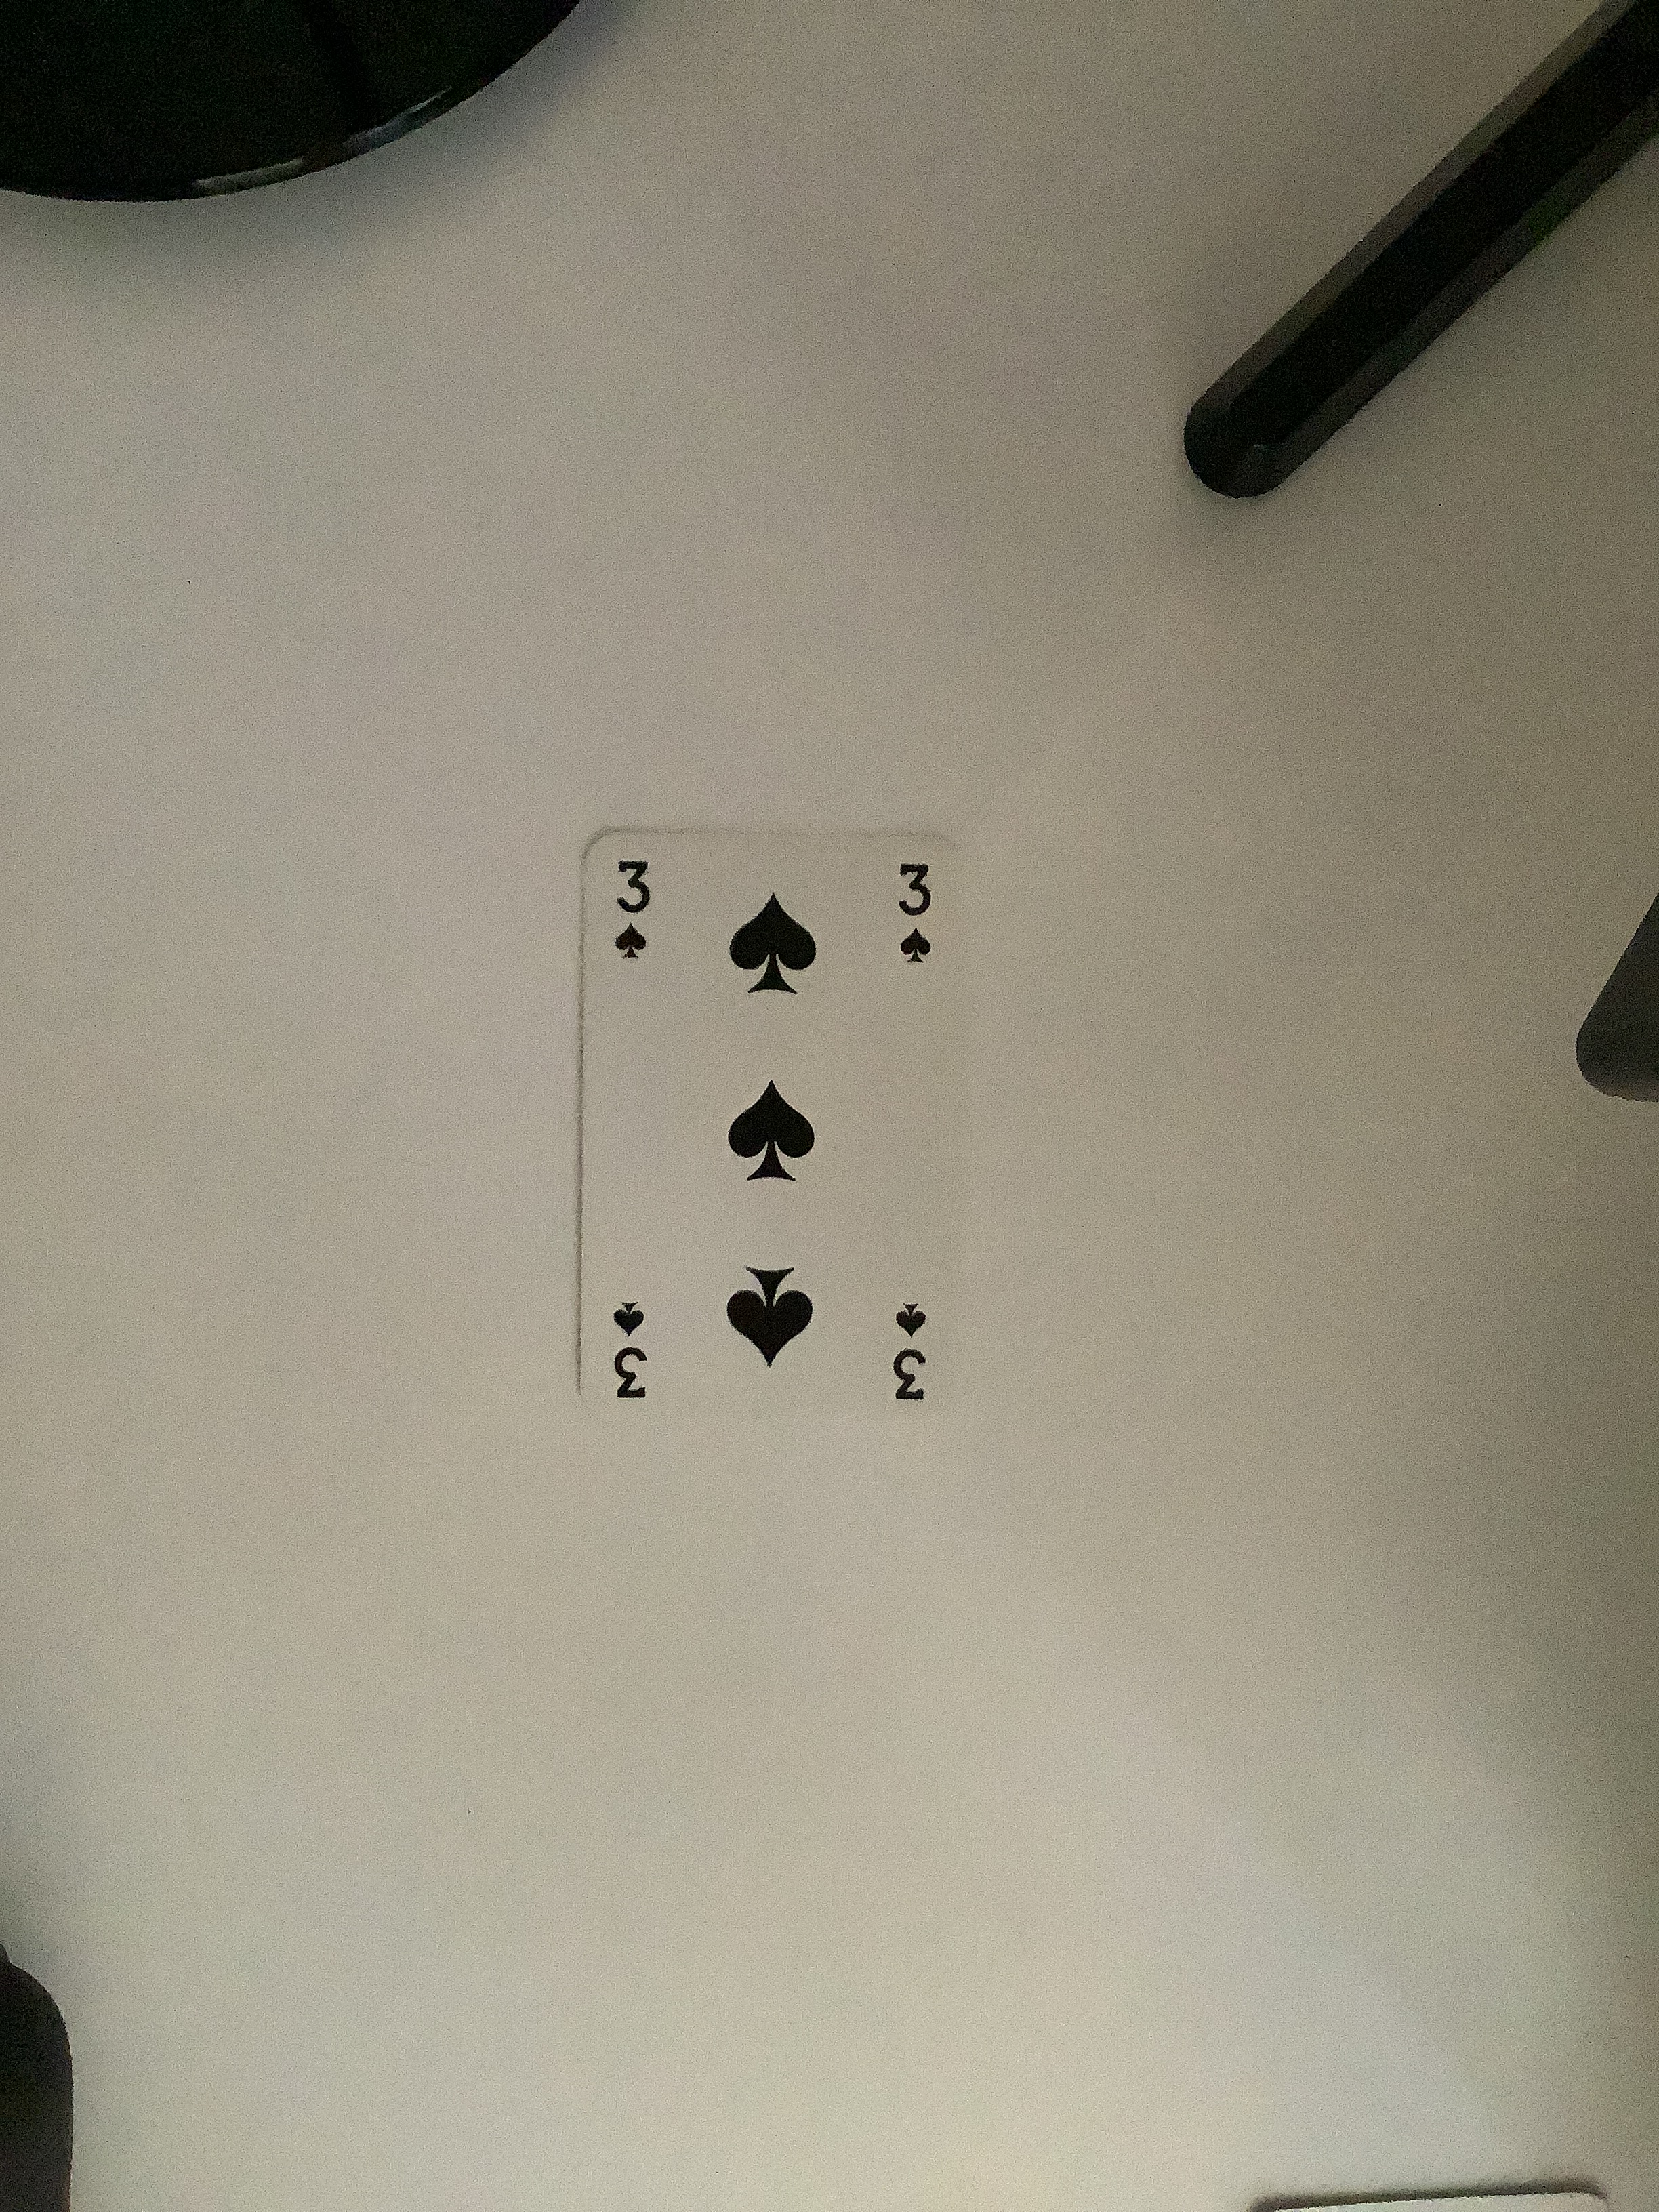♠ 3: (563, 803, 1004, 1451)
